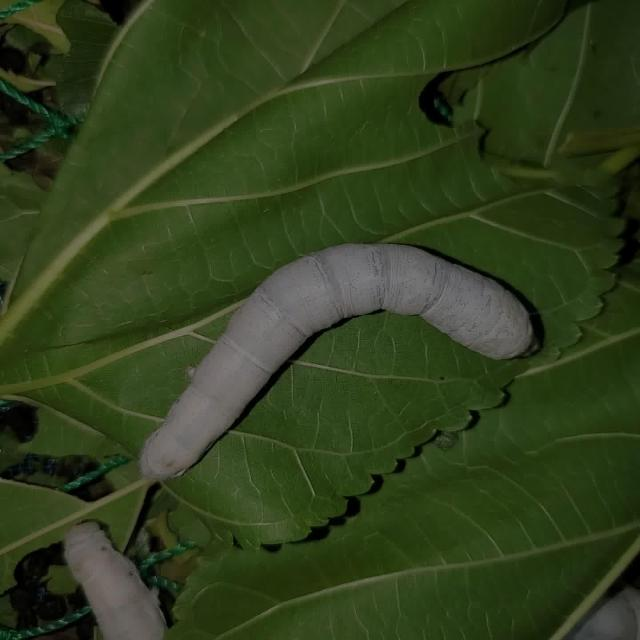Healthy: (128, 226, 560, 489)
